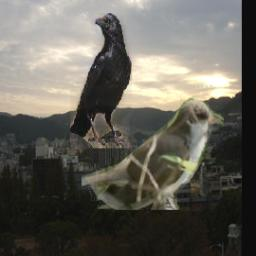Crow: (69, 14, 131, 149)
Cuckoo: (82, 98, 224, 210)
